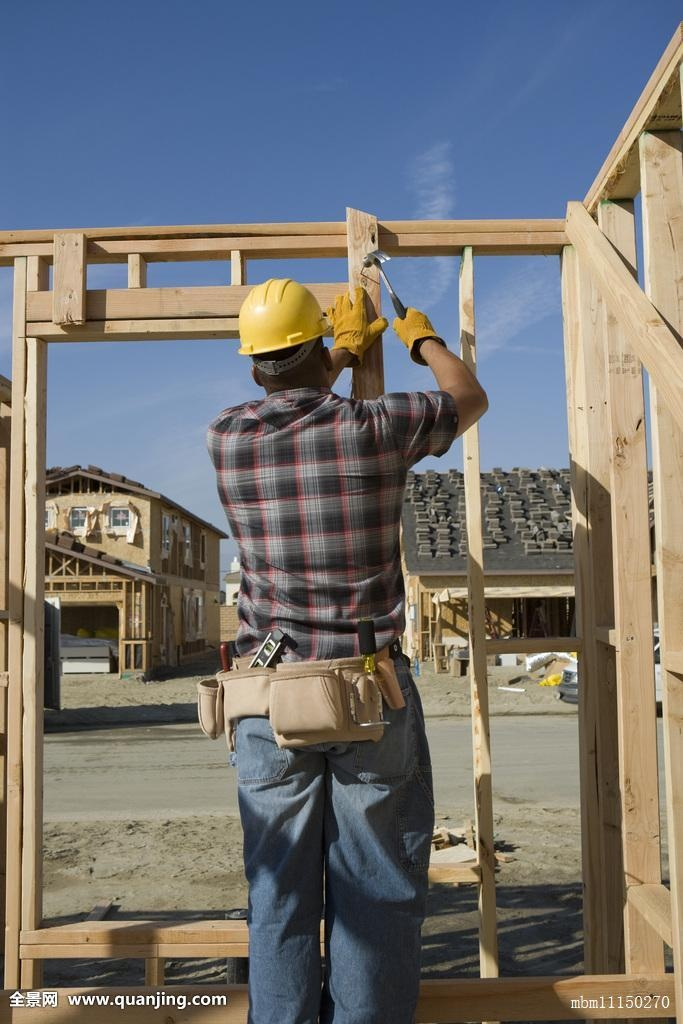yellow: (237, 276, 338, 399)
